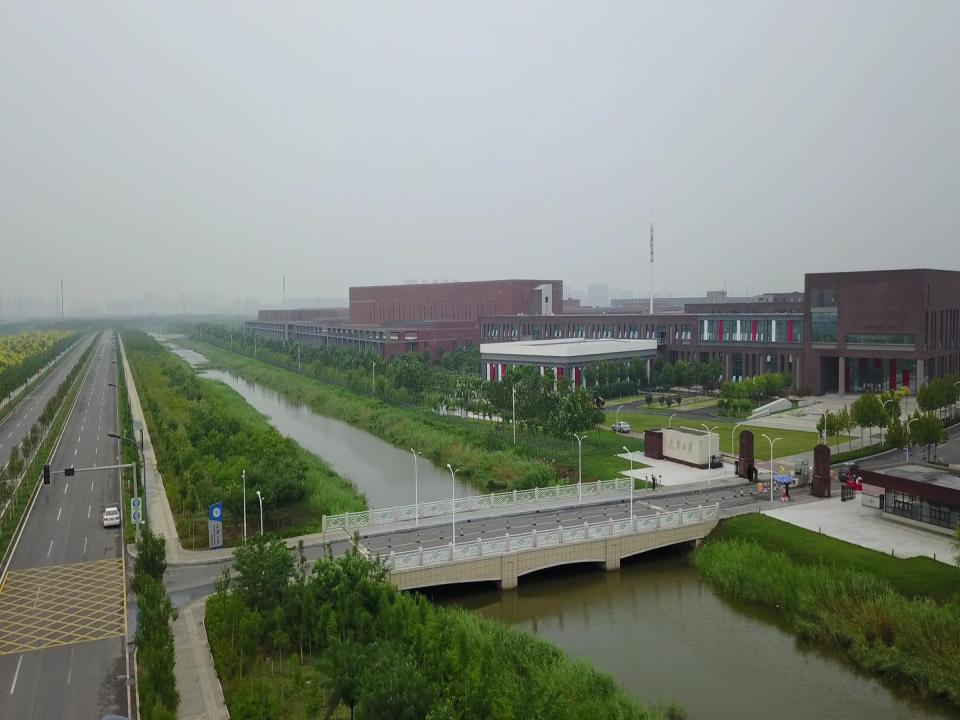car: (102, 506, 120, 528), (610, 421, 630, 432)
van: (838, 461, 862, 483), (97, 354, 101, 360)
